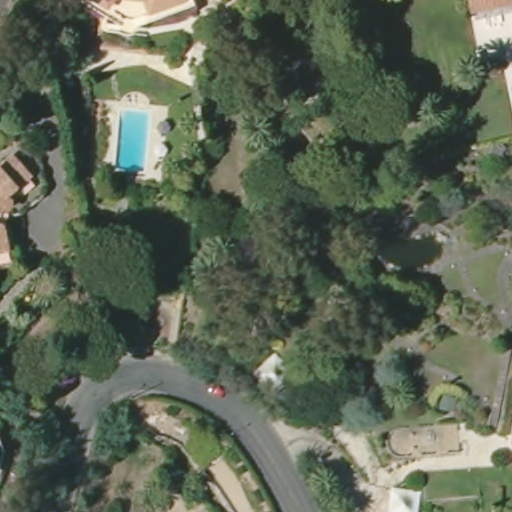pool: (113, 108, 156, 179)
